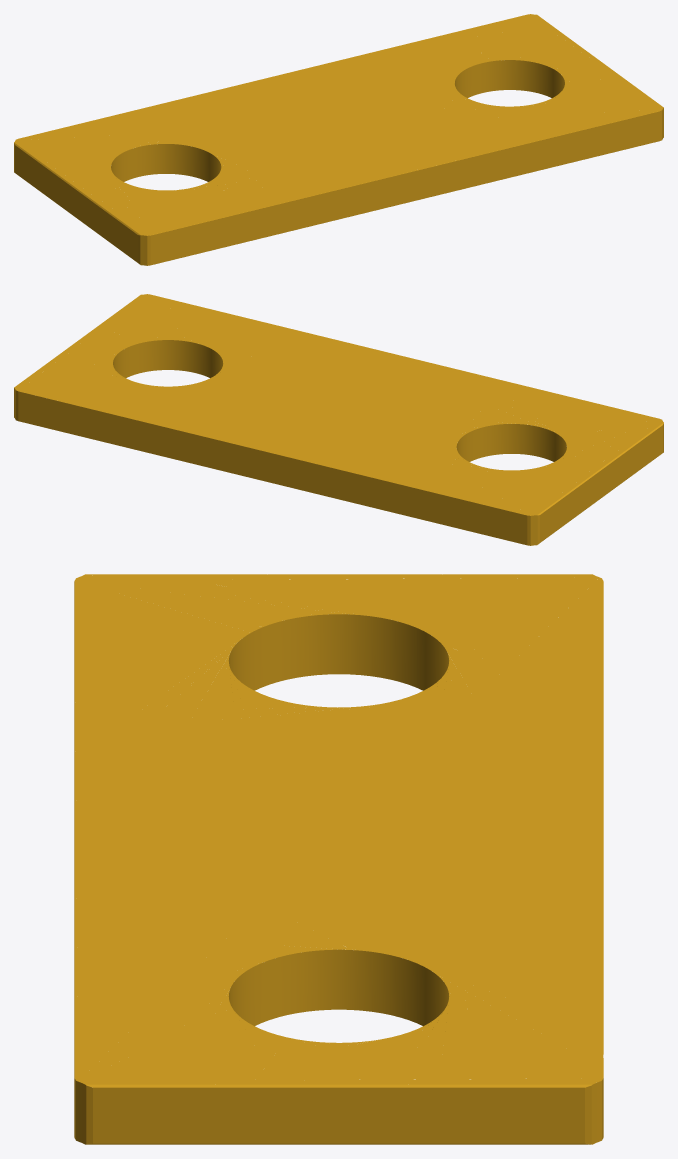
The model's file is asinma-da-d-a-2200-03.glb.
3 views of the same model, one above another, from view 1: azimuth 30°, elevation 25°; view 2: azimuth 150°, elevation 25°; view 3: azimuth 270°, elevation 25° (orthographic). The views are drawn at different scales.
Parts seen in each view (by area): view 1: body; view 2: body; view 3: body.
Boxes of the visible parts, x1,y1,x2,y2 form: body: [14, 14, 663, 265]; body: [14, 294, 663, 545]; body: [74, 574, 603, 1144].
Size of the model in its own units: 0.275 by 0.015 by 0.12.
